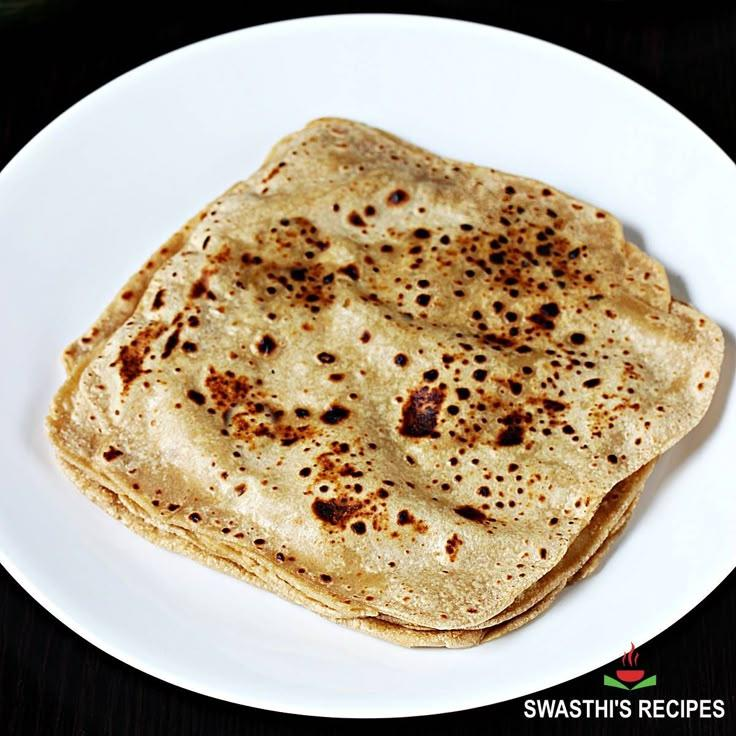roti phulka: (44, 115, 732, 647)
